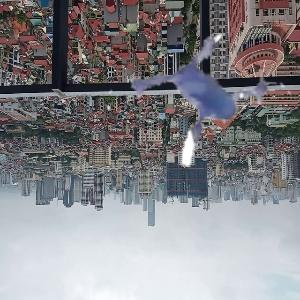drone: (84, 13, 300, 229)
